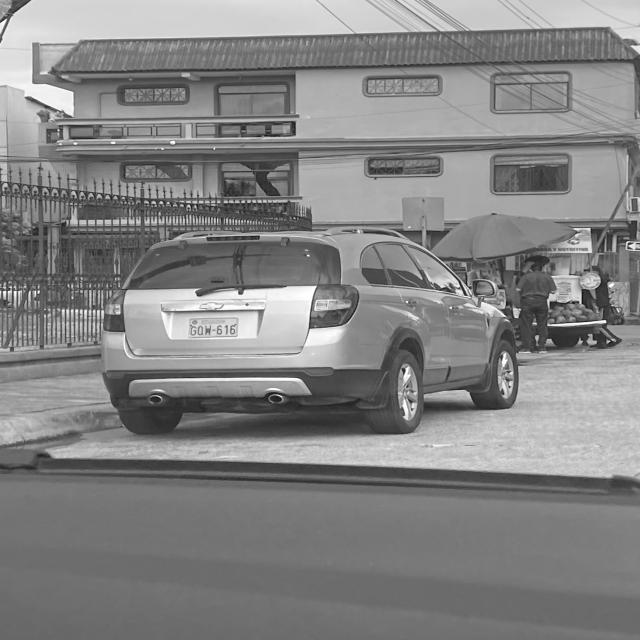Placa: (189, 318, 237, 338)
